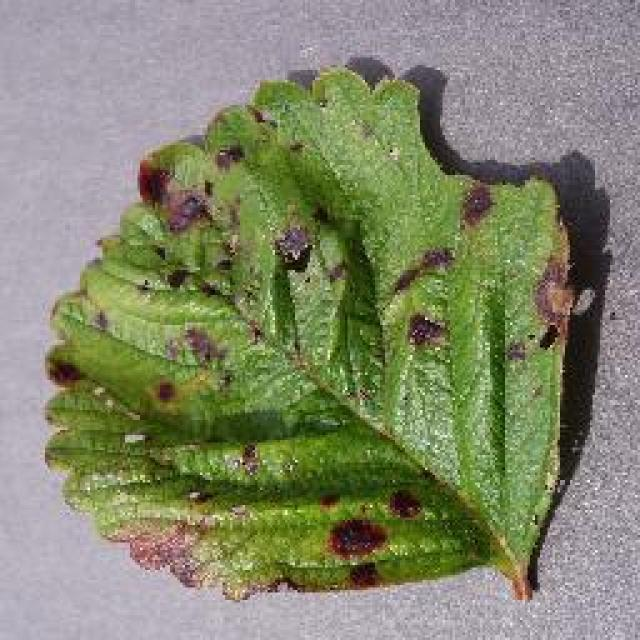Strawberry leaf scorch: (155, 172, 472, 420)
